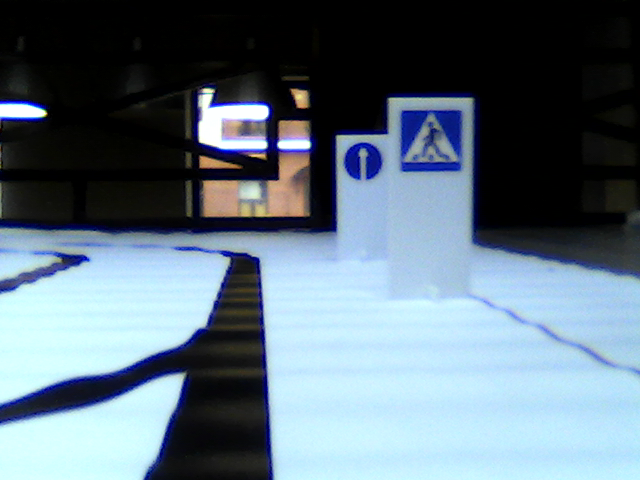forw: (344, 142, 383, 179)
pesh: (399, 108, 463, 172)
